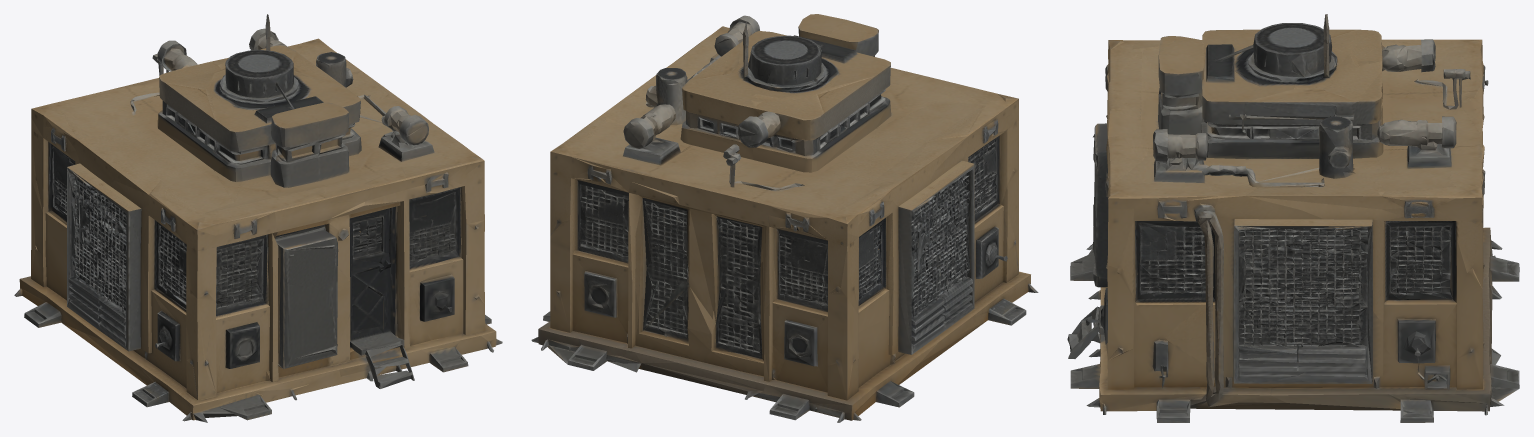
File: generator.glb
3 views of the same model, side by side, from view 1: azimuth 30°, elevation 25°; view 2: azimuth 150°, elevation 25°; view 3: azimuth 270°, elevation 25° (orthographic). The views are drawn at different scales.
Bounding box in the file's own units: 1.88 × 1.51 × 1.89.
Materials: 1 (1 with a texture image).
